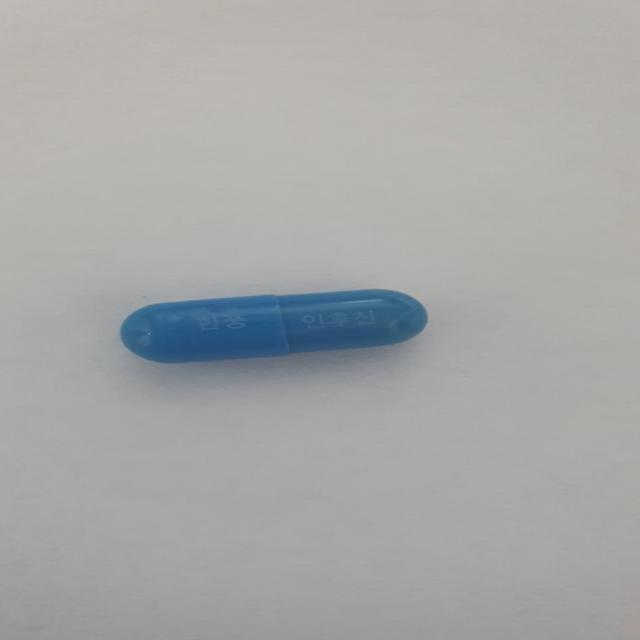pill: (101, 275, 449, 375)
